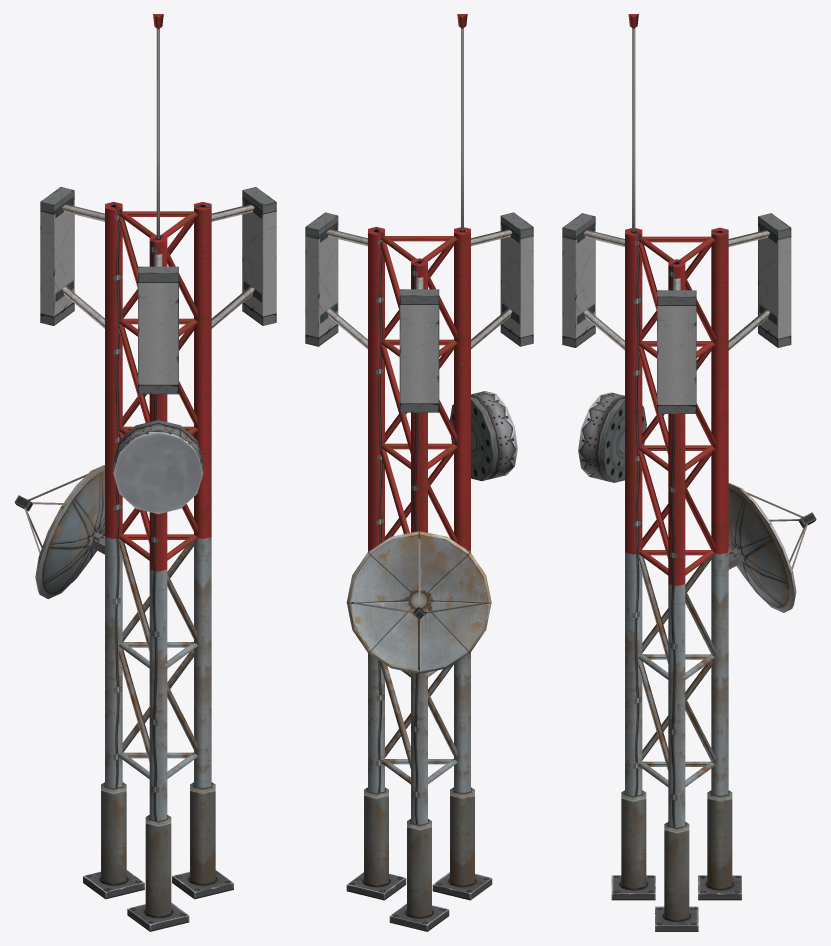
Rendered from antenna07.FBX.
3 views of the same model, side by side, from view 1: azimuth 30°, elevation 25°; view 2: azimuth 150°, elevation 25°; view 3: azimuth 270°, elevation 25° (orthographic). The views are drawn at different scales.
Visible parts, largest first — view 1: antenna07, antenna07_part1, antenna07_part2; view 2: antenna07, antenna07_part2, antenna07_part1; view 3: antenna07, antenna07_part2, antenna07_part1.
Part boxes in pixels (left/top/right/bottom): antenna07: left=40, top=14, right=276, bottom=931; antenna07_part1: left=113, top=420, right=203, bottom=514; antenna07_part2: left=14, top=465, right=104, bottom=598; antenna07: left=305, top=14, right=533, bottom=931; antenna07_part2: left=346, top=531, right=491, bottom=673; antenna07_part1: left=450, top=391, right=517, bottom=481; antenna07: left=562, top=14, right=791, bottom=931; antenna07_part2: left=728, top=483, right=816, bottom=612; antenna07_part1: left=578, top=392, right=646, bottom=482.
Size of the model in its own units: 314 by 1328 by 349.
